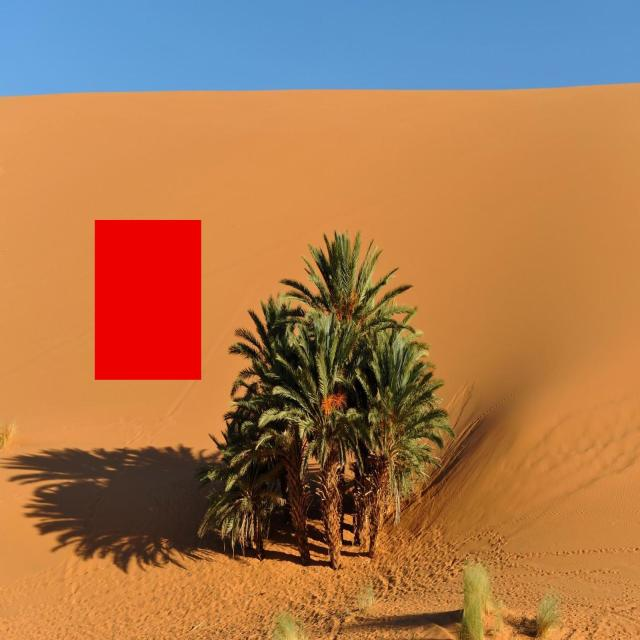RedSquare: (92, 216, 205, 383)
